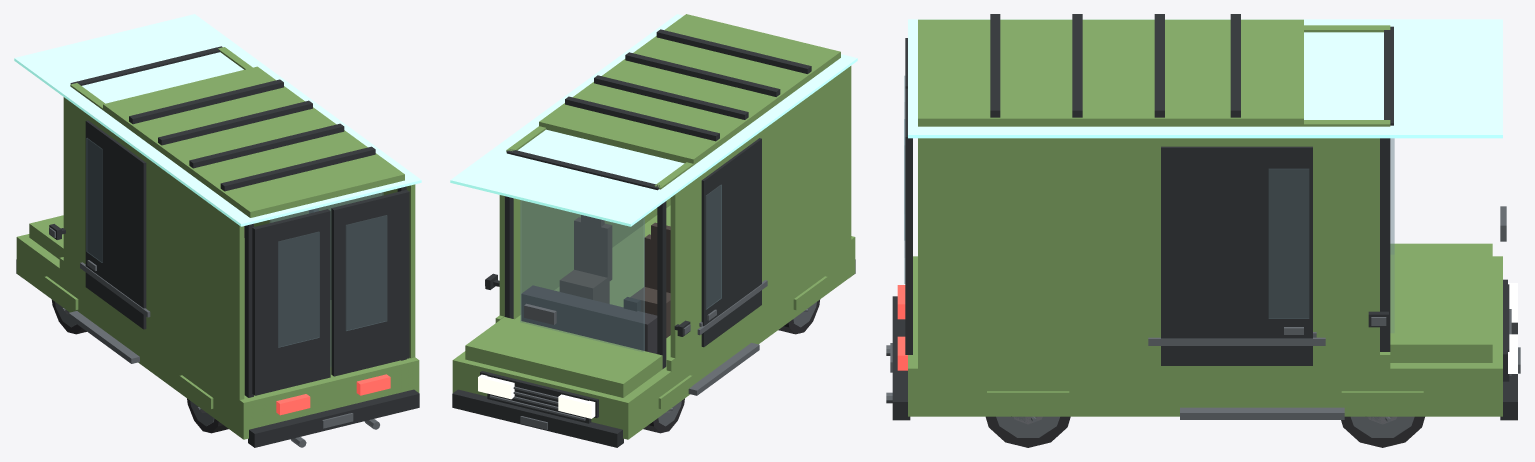
File: panel_van.glb
3 renders of one model, left to right at view 1: azimuth 30°, elevation 25°; view 2: azimuth 150°, elevation 25°; view 3: azimuth 270°, elevation 25°, orthographic. The views are drawn at different scales.
Visible parts, largest first — view 1: PanelVan_CargoWallL, PanelVan_Roof, PanelVan_Lip, PanelVan_BarnL, PanelVan_BarnR, PanelVan_Hull, PanelVan_DoorL, PanelVan_BarnWinL, PanelVan_BarnWinR, PanelVan_BumperR, PanelVan_DoorGlassL, PanelVan_CargoWallR (+14 smaller); view 2: PanelVan_CargoWallL, PanelVan_Roof, PanelVan_Lip, PanelVan_GlassF, PanelVan_Hull, PanelVan_DoorL, PanelVan_Hood, PanelVan_CargoWallR, PanelVan_Dash, PanelVan_BumperF, PanelVan_PassengerBack, PanelVan_DoorGlassL (+19 smaller); view 3: PanelVan_CargoWallR, PanelVan_Roof, PanelVan_DoorR, PanelVan_Lip, PanelVan_Hull, PanelVan_Hood, PanelVan_DoorGlassR, PanelVan_SillR, PanelVan_PillarAR, PanelVan_BoardR, PanelVan_BarnR, PanelVan_DoorTrackR (+15 smaller).
Boxes of the visible parts, x1=… form: PanelVan_CargoWallL: x1=63, y1=97, x2=244, y2=399; PanelVan_Roof: x1=103, y1=66, x2=404, y2=217; PanelVan_Lip: x1=14, y1=14, x2=421, y2=226; PanelVan_BarnL: x1=252, y1=209, x2=330, y2=395; PanelVan_BarnR: x1=331, y1=190, x2=409, y2=376; PanelVan_Hull: x1=16, y1=234, x2=419, y2=439; PanelVan_DoorL: x1=85, y1=120, x2=146, y2=329; PanelVan_BarnWinL: x1=278, y1=232, x2=319, y2=347; PanelVan_BarnWinR: x1=346, y1=215, x2=387, y2=330; PanelVan_BumperR: x1=248, y1=389, x2=419, y2=447; PanelVan_DoorGlassL: x1=86, y1=138, x2=102, y2=262; PanelVan_CargoWallR: x1=254, y1=184, x2=415, y2=358; PanelVan_CargoWallL: x1=670, y1=66, x2=851, y2=368; PanelVan_Roof: x1=539, y1=14, x2=840, y2=164; PanelVan_Lip: x1=450, y1=14, x2=857, y2=226; PanelVan_GlassF: x1=520, y1=200, x2=644, y2=351; PanelVan_Hull: x1=452, y1=205, x2=855, y2=439; PanelVan_DoorL: x1=701, y1=138, x2=761, y2=347; PanelVan_Hood: x1=465, y1=317, x2=662, y2=397; PanelVan_CargoWallR: x1=499, y1=195, x2=670, y2=319; PanelVan_Dash: x1=521, y1=285, x2=657, y2=353; PanelVan_BumperF: x1=452, y1=389, x2=623, y2=447; PanelVan_PassengerBack: x1=574, y1=217, x2=612, y2=282; PanelVan_DoorGlassL: x1=706, y1=184, x2=721, y2=309; PanelVan_CargoWallR: x1=918, y1=138, x2=1379, y2=368; PanelVan_Roof: x1=918, y1=19, x2=1303, y2=126; PanelVan_DoorR: x1=1161, y1=146, x2=1312, y2=365; PanelVan_Lip: x1=908, y1=19, x2=1502, y2=138; PanelVan_Hull: x1=908, y1=256, x2=1502, y2=416; PanelVan_Hood: x1=1390, y1=243, x2=1492, y2=362; PanelVan_DoorGlassR: x1=1269, y1=169, x2=1308, y2=318; PanelVan_SillR: x1=918, y1=352, x2=1390, y2=368; PanelVan_PillarAR: x1=1380, y1=138, x2=1390, y2=351; PanelVan_BoardR: x1=1180, y1=407, x2=1344, y2=419; PanelVan_BarnR: x1=905, y1=88, x2=912, y2=354; PanelVan_DoorTrackR: x1=1148, y1=337, x2=1325, y2=345.
Bounding box in the file's own units: 2.39 × 2.9 × 5.01.
